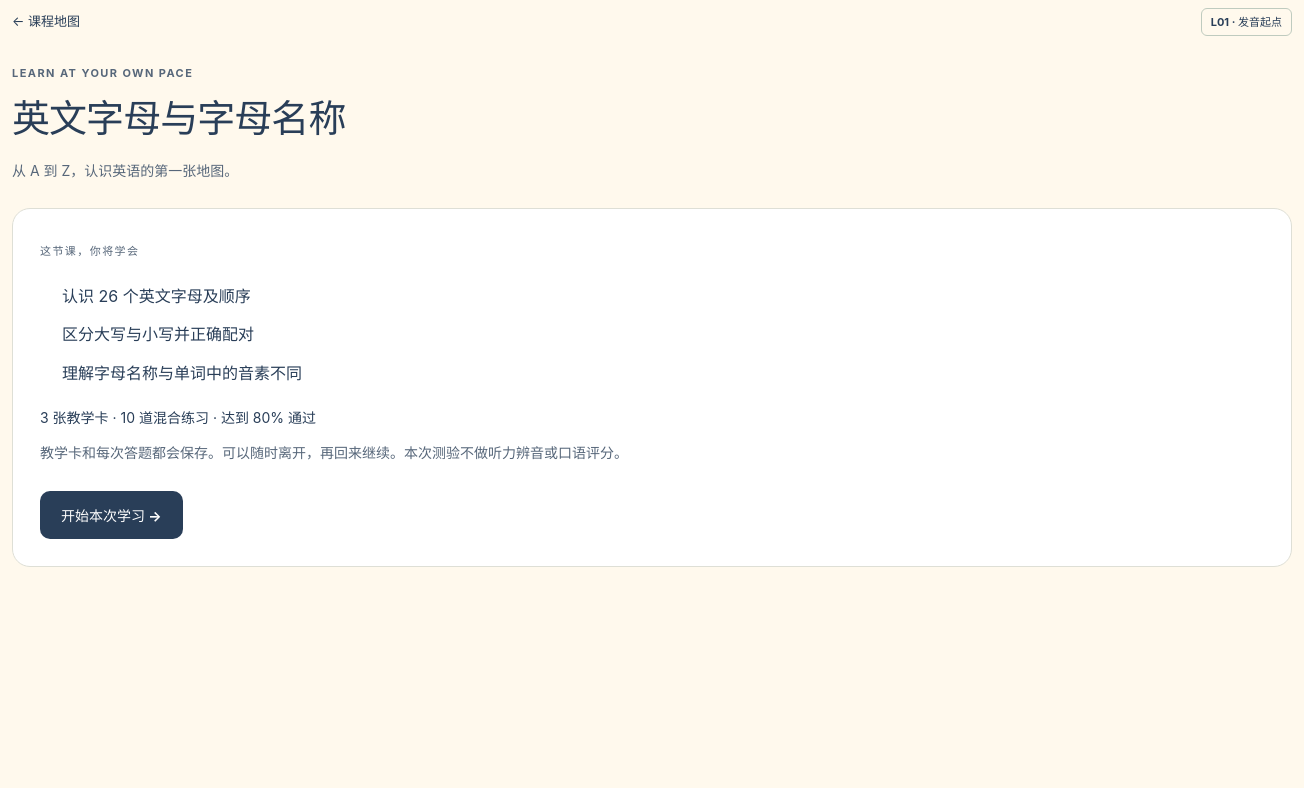
Test case: 页面与真实学习流程 › 保存失败有明确反馈，可重试，不假装开始成功
Click the button "开始本次学习 →".
click(111, 515)  # box [40,491,183,539]
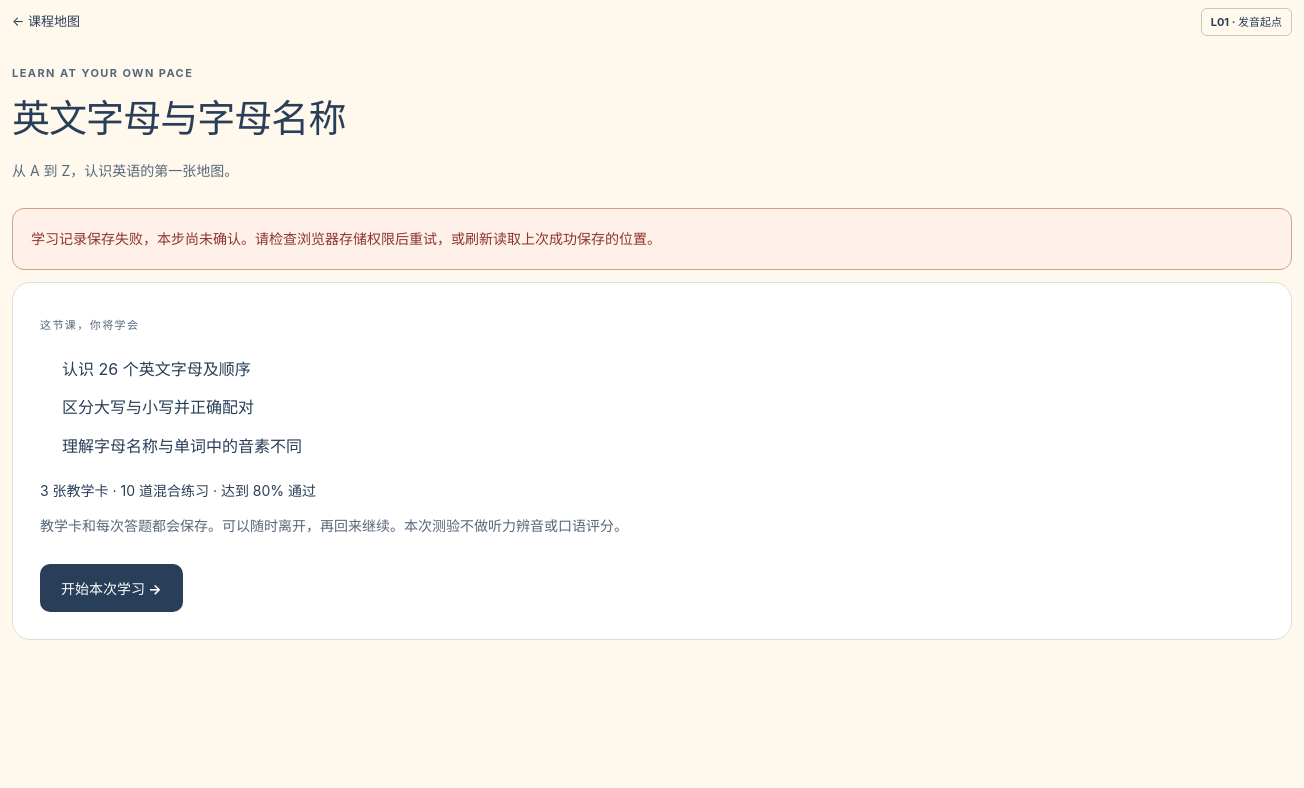
Check: the message shows "保存失败", box [31,230,661,247]
Click the button "开始本次学习 →".
click(111, 588)  # box [40,564,183,612]
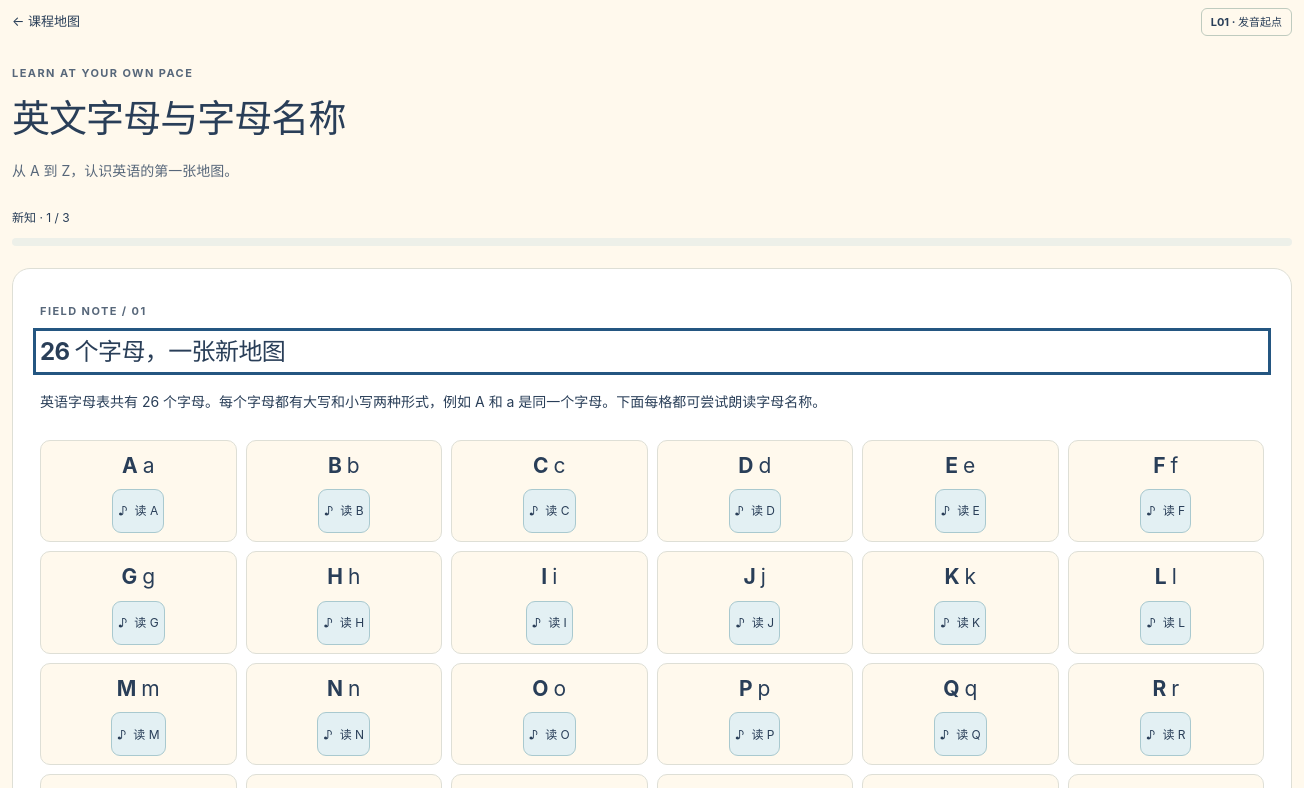
Check: the heading "26 个字母，一张新地图" is shown, box [40,337,285,366]
